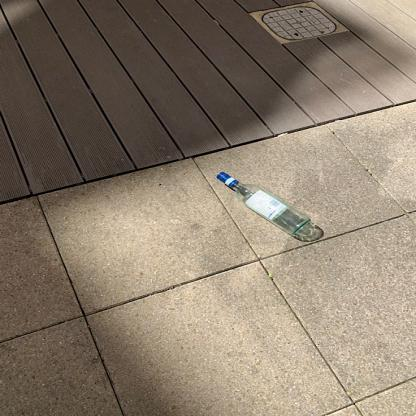trash: (211, 168, 316, 237)
